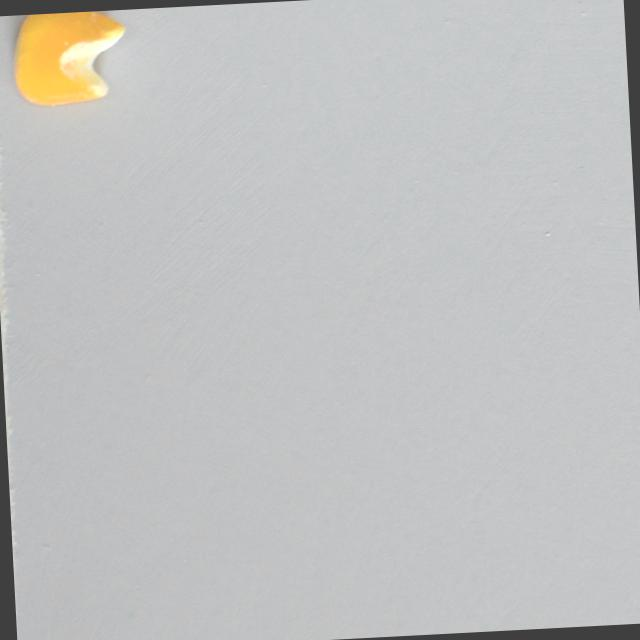no_canjicado: (9, 10, 129, 111)
